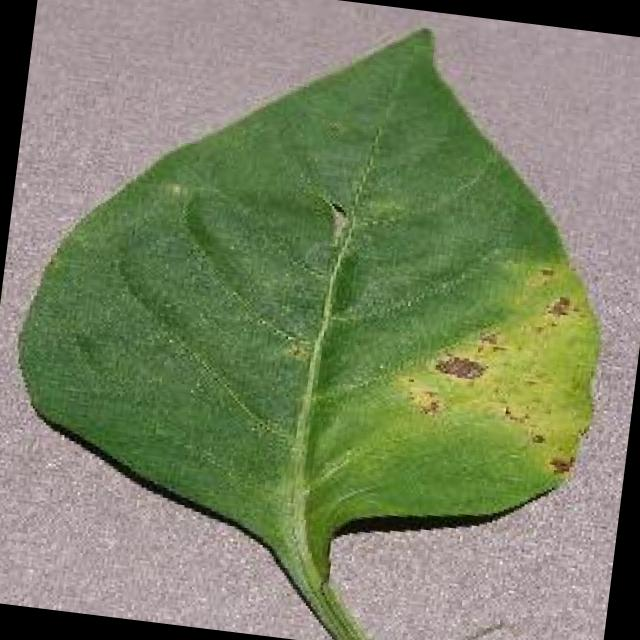Chilli_Bacterial_Spot: (0, 0, 640, 640), (384, 243, 614, 481), (429, 347, 490, 386), (399, 380, 445, 420), (274, 330, 316, 369), (539, 286, 578, 324), (472, 324, 511, 361), (540, 448, 576, 479), (531, 258, 559, 284)
